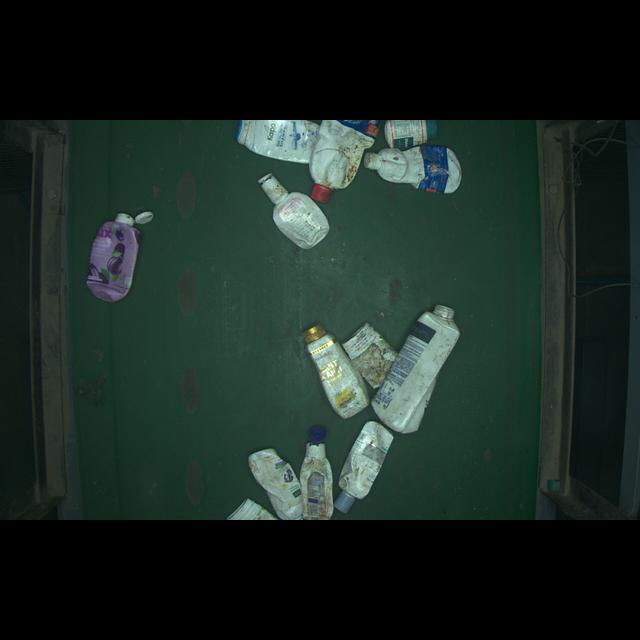mix PET: (367, 291, 461, 434), (298, 318, 368, 421), (87, 208, 159, 307), (332, 417, 389, 526), (294, 417, 341, 522)
